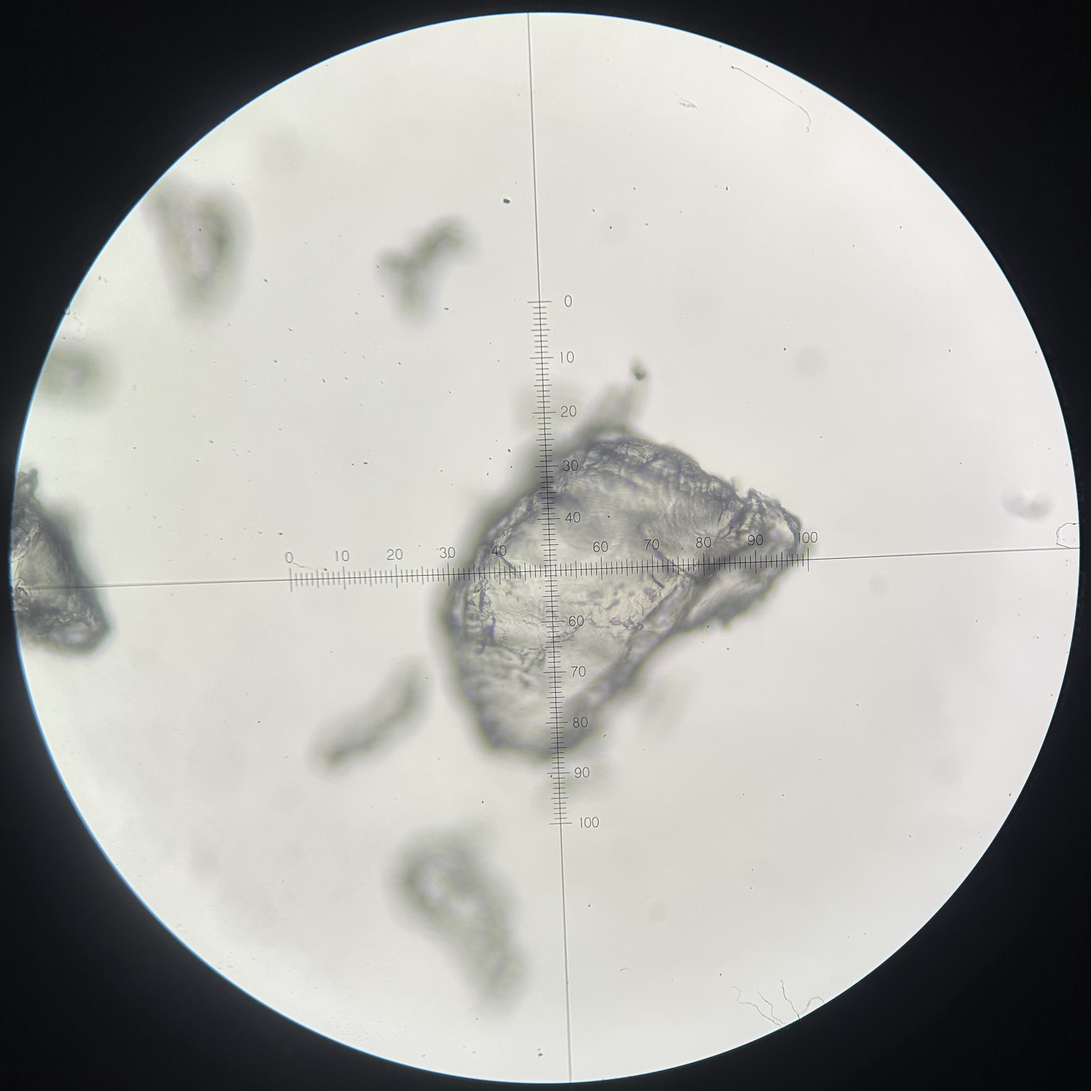microplastic: (441, 359, 809, 759), (393, 830, 526, 1012), (8, 463, 117, 662), (147, 182, 241, 320), (319, 669, 429, 773), (379, 218, 478, 323), (31, 345, 108, 405), (1002, 488, 1055, 519)
